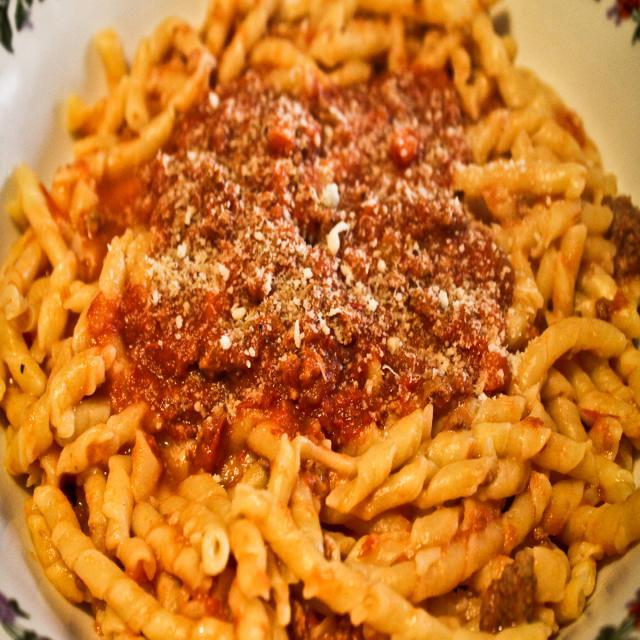Pasta al ragu: (16, 21, 633, 624)
